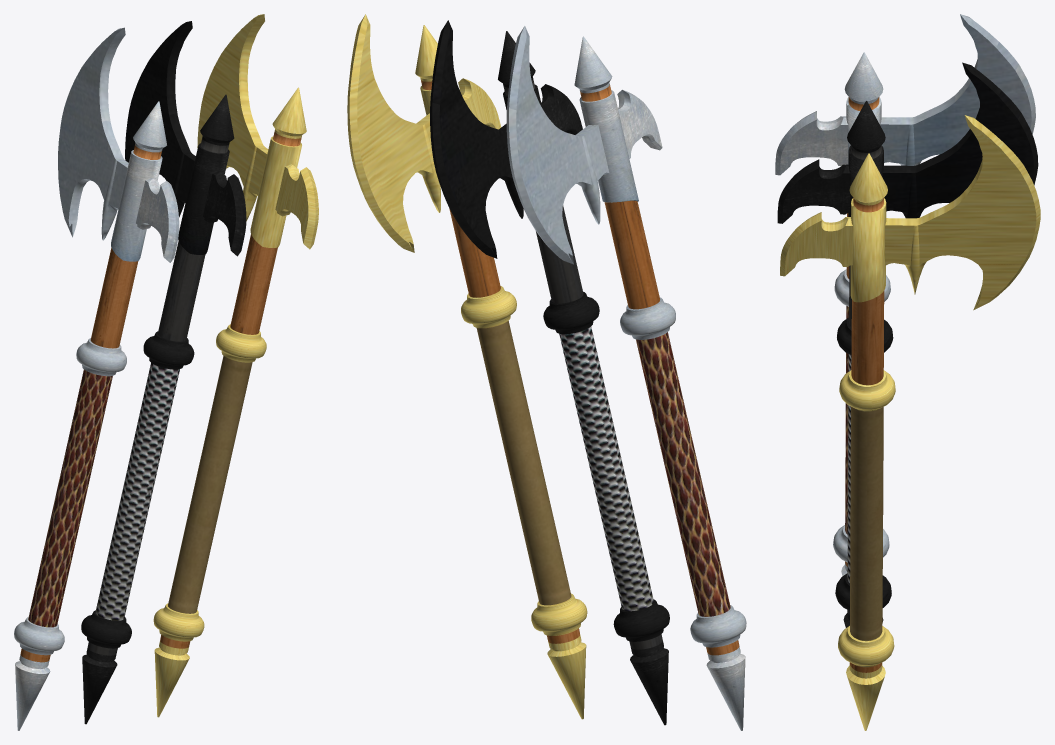
Rendered from FreeAXE.fbx.
3 views of the same model, side by side, from view 1: azimuth 30°, elevation 25°; view 2: azimuth 150°, elevation 25°; view 3: azimuth 270°, elevation 25° (orthographic). The views are drawn at different scales.
Visible parts, largest first — view 1: HeroAxe, RoyalAXE, VillianAXE; view 2: HeroAxe, RoyalAXE, VillianAXE; view 3: RoyalAXE, VillianAXE, HeroAxe.
Part boxes in pixels (x1,y1,x2,y2): HeroAxe: (14, 27, 179, 730); RoyalAXE: (153, 14, 318, 717); VillianAXE: (81, 21, 246, 724); HeroAxe: (506, 26, 746, 730); RoyalAXE: (347, 14, 587, 719); VillianAXE: (430, 20, 669, 725); RoyalAXE: (780, 115, 1040, 730); VillianAXE: (777, 62, 1038, 627); HeroAxe: (775, 14, 1035, 575).
Bounding box in the file's own units: 41.82 × 88.39 × 29.46.
Materials: 3 (3 with a texture image).
